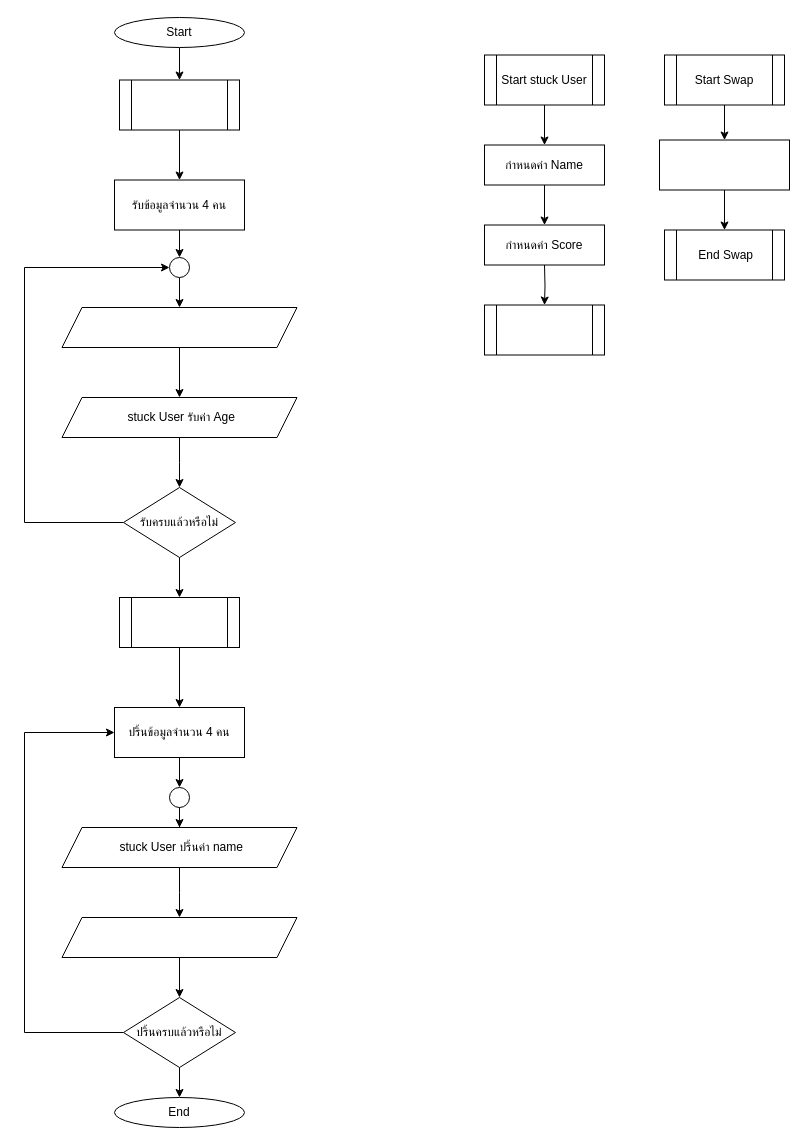
This 807x1145 diagram has some shape labels left out. The shapes that lost their labels are listed below. From the top down, each one's centre as x and y in pixels, then its label:
the point at 179,104: stuck User
the point at 724,164: สลับ stuck จากมากไปน้อย
the point at 179,327: stuck User รับค่า name
the point at 544,329: End stuck User
the point at 179,622: Swap
the point at 179,937: stuck User ปริ้นค่า Score
